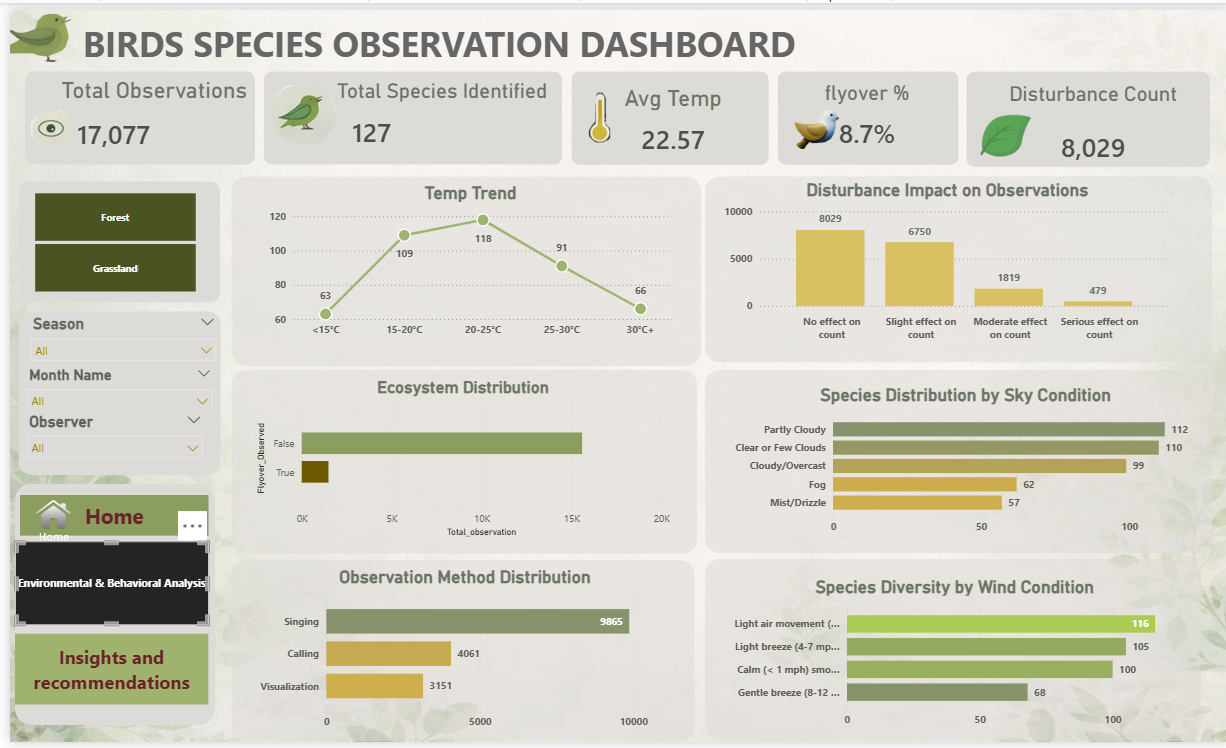

The dashboard page shown, as its layout file describes it:
{"tool":"powerbi","page":{"name":"Environmental & Behavioral Analysis","canvas":[1500,900],"ordinal":1},"visuals":[{"type":"shape","box":[18.1,75.4,283.2,115],"z":0,"group":"g21"},{"type":"group","id":"g1","title":"Group 2","box":[312.3,75.4,367.3,115],"z":0,"group":"g22"},{"type":"shape","box":[312.3,75.4,367.3,115],"z":0,"group":"g1"},{"type":"shape","box":[690.8,75.4,243.2,115.4],"z":0,"group":"g5"},{"type":"group","id":"g2","title":"Group 2","box":[944.6,75.4,223.1,115.4],"z":0,"group":"g11"},{"type":"shape","box":[944.6,75.4,223.1,115.4],"z":0,"group":"g2"},{"type":"group","id":"g3","title":"Group 3","box":[1176.9,75.4,300,133.8],"z":0,"group":"g12"},{"type":"group","id":"g4","title":"Group 2","box":[1176.9,75.4,300,133.8],"z":0,"group":"g3"},{"type":"shape","box":[1176.9,75.4,300,117.9],"z":0,"group":"g4"},{"type":"cardVisual","title":"Total Observations","fields":{"Data":["birds_analysis bird_data.Total_observation"]},"box":[53.7,83.4,247.6,105.1],"z":0,"group":"g6"},{"type":"cardVisual","title":"Total Species Identified","fields":{"Data":["birds_analysis bird_data.Total_species"]},"box":[391.6,84.2,278.8,99.3],"z":0,"group":"g7"},{"type":"cardVisual","title":"flyover %","fields":{"Data":["birds_analysis bird_data.flyover%"]},"box":[951,87.1,208.2,96.9],"z":0,"group":"g8"},{"type":"cardVisual","title":"Disturbance Count","fields":{"Data":["birds_analysis bird_data.disturbance_count"]},"box":[1220.9,89.7,223.3,119.3],"z":0,"group":"g9"},{"type":"cardVisual","title":"Avg Temp","fields":{"Data":["Avg(birds_analysis bird_data.Temperature)"]},"box":[686.2,91.8,260,97.2],"z":0,"group":"g10"},{"type":"shape","box":[6.2,583.1,246.2,296.9],"z":0},{"type":"group","id":"g5","title":"Group 2","box":[686.2,75.4,260,115.4],"z":1000},{"type":"image","box":[313.7,92.6,95.5,73],"z":1000,"group":"g22"},{"type":"image","box":[15.4,122.8,69.8,44.5],"z":1000,"group":"g6"},{"type":"shape","box":[855.4,204.6,624.6,229.2],"z":1000,"group":"g15"},{"type":"shape","box":[272.3,443.1,573.7,226.2],"z":1000,"group":"g20"},{"type":"group","id":"g6","title":"Group 1","box":[15.4,83.4,285.9,105.1],"z":1002,"group":"g21"},{"type":"group","id":"g7","title":"Group 1","box":[391.6,84.2,278.8,99.3],"z":1002,"group":"g1"},{"type":"group","id":"g8","title":"Group 1","box":[951,87.1,208.2,96.9],"z":1002,"group":"g2"},{"type":"group","id":"g9","title":"Group 1","box":[1220.9,89.7,222.6,119.6],"z":1002,"group":"g4"},{"type":"group","id":"g10","title":"Group 1","box":[686.2,91.8,260,97.2],"z":1002,"group":"g5"},{"type":"group","id":"g11","title":"Group 3","box":[944.6,75.4,223.1,115.4],"z":2000},{"type":"group","id":"g12","title":"Group 5","box":[1176.9,75.4,300,133.8],"z":3000},{"type":"columnChart","title":"Disturbance Impact on Observations","fields":{"Category":["birds_analysis bird_data.Disturbance"],"Y":["birds_analysis bird_data.Total_observation"]},"box":[874.2,209.8,559.9,206.2],"z":5000,"group":"g15"},{"type":"group","id":"g13","title":"Group 6","box":[272.3,443.1,573.7,226.2],"z":5000},{"type":"barChart","title":"Ecosystem Distribution","fields":{"Category":["birds_analysis bird_data.Flyover_Observed"],"Y":["birds_analysis bird_data.Total_observation"]},"box":[298,452.2,518.5,201.5],"z":5000,"group":"g20"},{"type":"shape","box":[272.3,204.6,578.5,233.8],"z":6000},{"type":"lineChart","title":"Temp Trend ","fields":{"Category":["birds_analysis bird_data.Temp Range"],"Y":["birds_analysis bird_data.Total_species"]},"box":[313.8,212.3,506.2,200],"z":7000},{"type":"shape","box":[10.8,210.8,247.7,149.2],"z":8000},{"type":"slicer","fields":{"Values":["birds_analysis bird_data.Ecosystem"]},"box":[4.6,218.5,247.7,135.4],"z":9000},{"type":"group","id":"g14","title":"Group 8","box":[10.8,370.8,253.8,201.5],"z":10000},{"type":"textbox","box":[84.6,6.2,1015.4,81.5],"z":11000},{"type":"image","box":[0,0,77.5,69],"z":12000},{"type":"shape","box":[855.4,675.4,610.8,224.6],"z":12000,"group":"g18"},{"type":"group","id":"g15","title":"Group 10","box":[855.4,204.6,624.6,229.2],"z":13000},{"type":"clusteredBarChart","title":"Species Diversity by Wind Condition","fields":{"Y":["birds_analysis bird_data.Total_species"],"Category":["birds_analysis bird_data.Wind"]},"box":[872.4,697,580.9,194.7],"z":13000,"group":"g18"},{"type":"group","id":"g16","title":"Group 11","box":[855.4,443.1,624.6,226.2],"z":14000},{"type":"shape","box":[855.4,443.1,624.8,225.6],"z":14000,"group":"g16"},{"type":"group","id":"g17","title":"Group 12","box":[271.8,677,570.8,223.1],"z":15000},{"type":"shape","box":[271.8,677,570.8,223.1],"z":16000,"group":"g17"},{"type":"clusteredBarChart","title":"Observation Method Distribution","fields":{"Category":["birds_analysis bird_data.ID_Method"],"Y":["birds_analysis bird_data.Total_observation"]},"box":[301.5,684.6,516.9,209.2],"z":16000},{"type":"clusteredBarChart","title":"Species Distribution by Sky Condition","fields":{"Category":["birds_analysis bird_data.Sky"],"Y":["birds_analysis bird_data.Total_species"]},"box":[886.2,461.5,580,192.3],"z":17000},{"type":"shape","box":[10.8,370.8,248.7,201.5],"z":18000,"group":"g14"},{"type":"group","id":"g18","title":"Group 13","box":[855.4,675.4,610.8,224.6],"z":18000},{"type":"image","box":[690.8,101.5,69.2,61.5],"z":19000},{"type":"slicer","fields":{"Values":["birds_analysis bird_data.Observer"]},"box":[10.8,491,236.6,62.5],"z":19000,"group":"g19"},{"type":"slicer","fields":{"Values":["birds_analysis bird_data.Season"]},"box":[16,370.8,248.7,71.9],"z":19500,"group":"g19"},{"type":"image","box":[946.2,123.1,93.8,47.7],"z":20000},{"type":"slicer","fields":{"Values":["birds_analysis bird_data.Month Name"]},"box":[10.8,433.3,248.7,57.8],"z":20000,"group":"g19"},{"type":"group","id":"g19","title":"Group 7","box":[10.8,370.8,253.8,182.7],"z":20002,"group":"g14"},{"type":"group","id":"g20","title":"Group 9","box":[272.3,443.1,573.7,226.2],"z":20006,"group":"g13"},{"type":"image","box":[1167.7,121.5,115.4,66.2],"z":21000},{"type":"group","id":"g21","title":"Group 2","box":[15.4,75.4,286.2,115.4],"z":22000},{"type":"group","id":"g22","title":"Group 4","box":[312.3,75.4,358.5,113.8],"z":23000},{"type":"pageNavigator","box":[12.3,596.9,232.3,50.8],"z":24000},{"type":"image","box":[0,603.1,107.7,50.8],"z":25000},{"type":"pageNavigator","box":[6.2,767.7,238.5,87.7],"z":26000},{"type":"pageNavigator","box":[6.2,653.8,238.5,103.1],"z":26001}]}

Visuals, with their boxes in screenshot pixels (x1, y1, x2, y2), scaled from the page's 1500x900 canvas onto the 1226x748 screenshot:
shape: (x1=15, y1=63, x2=246, y2=158)
"Group 2" group: (x1=255, y1=63, x2=555, y2=158)
shape: (x1=255, y1=63, x2=555, y2=158)
shape: (x1=565, y1=63, x2=763, y2=159)
"Group 2" group: (x1=772, y1=63, x2=954, y2=159)
shape: (x1=772, y1=63, x2=954, y2=159)
"Group 3" group: (x1=962, y1=63, x2=1207, y2=174)
"Group 2" group: (x1=962, y1=63, x2=1207, y2=174)
shape: (x1=962, y1=63, x2=1207, y2=161)
"Total Observations" cardVisual: (x1=44, y1=69, x2=246, y2=157)
"Total Species Identified" cardVisual: (x1=320, y1=70, x2=548, y2=153)
"flyover %" cardVisual: (x1=777, y1=72, x2=947, y2=153)
"Disturbance Count" cardVisual: (x1=998, y1=75, x2=1180, y2=174)
"Avg Temp" cardVisual: (x1=561, y1=76, x2=773, y2=157)
shape: (x1=5, y1=485, x2=206, y2=731)
"Group 2" group: (x1=561, y1=63, x2=773, y2=159)
image: (x1=256, y1=77, x2=334, y2=138)
image: (x1=13, y1=102, x2=70, y2=139)
shape: (x1=699, y1=170, x2=1210, y2=361)
shape: (x1=223, y1=368, x2=691, y2=556)
"Group 1" group: (x1=13, y1=69, x2=246, y2=157)
"Group 1" group: (x1=320, y1=70, x2=548, y2=153)
"Group 1" group: (x1=777, y1=72, x2=947, y2=153)
"Group 1" group: (x1=998, y1=75, x2=1180, y2=174)
"Group 1" group: (x1=561, y1=76, x2=773, y2=157)
"Group 3" group: (x1=772, y1=63, x2=954, y2=159)
"Group 5" group: (x1=962, y1=63, x2=1207, y2=174)
"Disturbance Impact on Observations" columnChart: (x1=715, y1=174, x2=1172, y2=346)
"Group 6" group: (x1=223, y1=368, x2=691, y2=556)
"Ecosystem Distribution" barChart: (x1=244, y1=376, x2=667, y2=543)
shape: (x1=223, y1=170, x2=695, y2=364)
"Temp Trend " lineChart: (x1=256, y1=176, x2=670, y2=343)
shape: (x1=9, y1=175, x2=211, y2=299)
slicer - birds_analysis bird_data.Ecosystem: (x1=4, y1=182, x2=206, y2=294)
"Group 8" group: (x1=9, y1=308, x2=216, y2=476)
textbox: (x1=69, y1=5, x2=899, y2=73)
image: (x1=0, y1=0, x2=63, y2=57)
shape: (x1=699, y1=561, x2=1198, y2=747)
"Group 10" group: (x1=699, y1=170, x2=1210, y2=361)
"Species Diversity by Wind Condition" clusteredBarChart: (x1=713, y1=579, x2=1188, y2=741)
"Group 11" group: (x1=699, y1=368, x2=1210, y2=556)
shape: (x1=699, y1=368, x2=1210, y2=556)
"Group 12" group: (x1=222, y1=563, x2=689, y2=747)
shape: (x1=222, y1=563, x2=689, y2=747)
"Observation Method Distribution" clusteredBarChart: (x1=246, y1=569, x2=669, y2=743)
"Species Distribution by Sky Condition" clusteredBarChart: (x1=724, y1=384, x2=1198, y2=543)
shape: (x1=9, y1=308, x2=212, y2=476)
"Group 13" group: (x1=699, y1=561, x2=1198, y2=747)
image: (x1=565, y1=84, x2=621, y2=135)
slicer - birds_analysis bird_data.Observer: (x1=9, y1=408, x2=202, y2=460)
slicer - birds_analysis bird_data.Season: (x1=13, y1=308, x2=216, y2=368)
image: (x1=773, y1=102, x2=850, y2=142)
slicer - birds_analysis bird_data.Month Name: (x1=9, y1=360, x2=212, y2=408)
"Group 7" group: (x1=9, y1=308, x2=216, y2=460)
"Group 9" group: (x1=223, y1=368, x2=691, y2=556)
image: (x1=954, y1=101, x2=1049, y2=156)
"Group 2" group: (x1=13, y1=63, x2=247, y2=159)
"Group 4" group: (x1=255, y1=63, x2=548, y2=157)
pageNavigator: (x1=10, y1=496, x2=200, y2=538)
image: (x1=0, y1=501, x2=88, y2=543)
pageNavigator: (x1=5, y1=638, x2=200, y2=711)
pageNavigator: (x1=5, y1=543, x2=200, y2=629)
